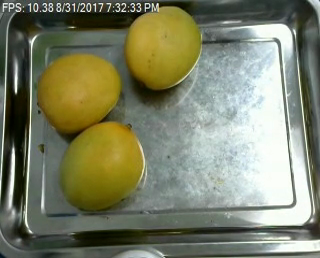Mango: (57, 120, 144, 211), (36, 54, 120, 133), (125, 4, 201, 87)
